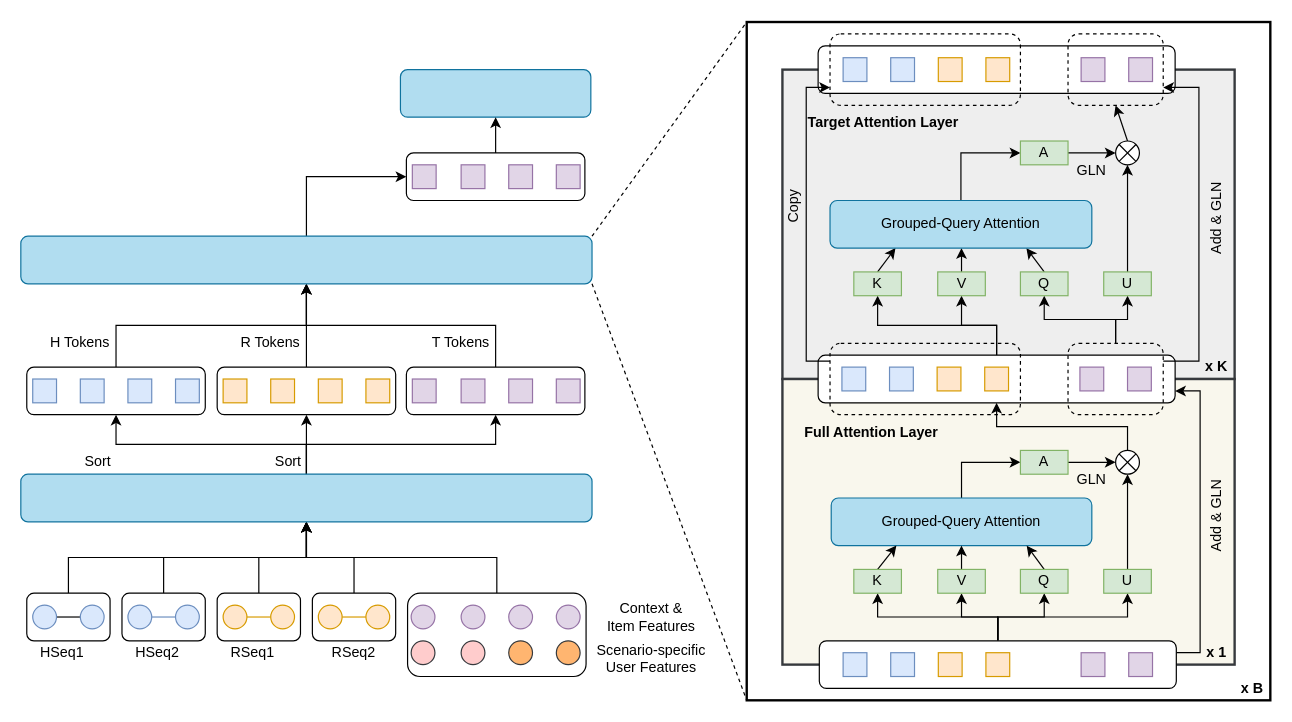
Some shapes in this 1292 by 722 pixel diagram are drawn without their labels. The shapes that lost their labels are listed below. From the top down, each one's centre as x and y in pixels, then its label:
(495,92): Multi-scenario Multi-task Module
(306,259): Hybrid Attention Architecture
(306,497): Heterogeneous Tokenizer
